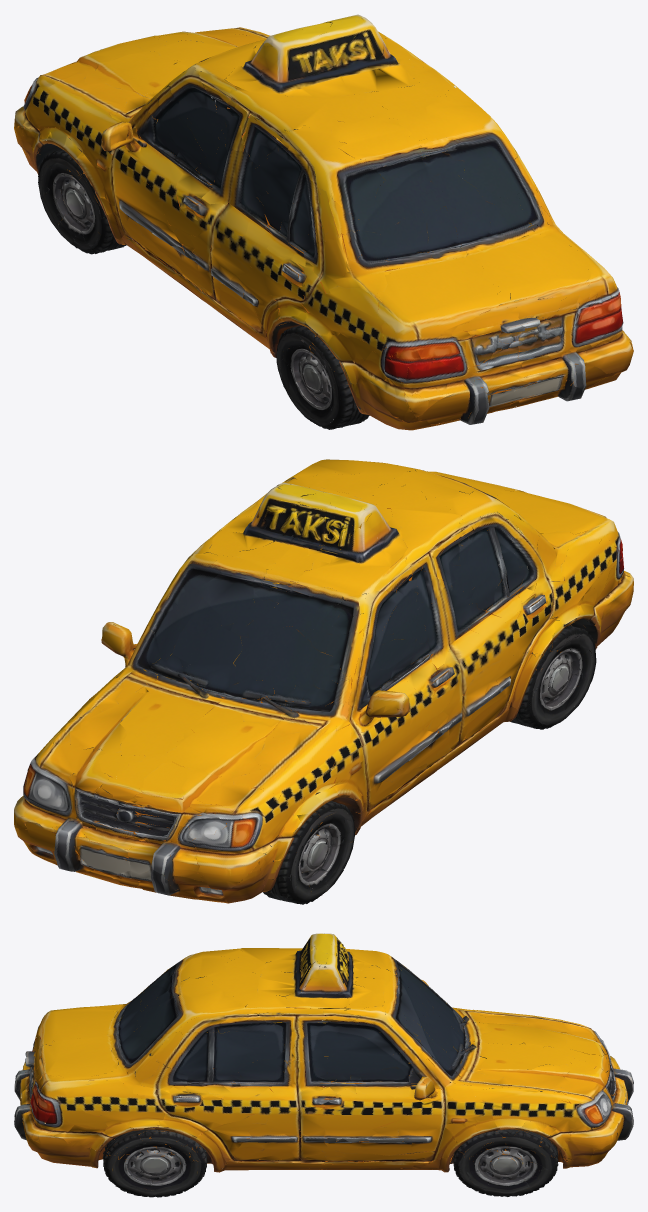
Rendered from Taxi.fbx.
The picture shows the model from 3 angles, top to bottom: view 1: azimuth 30°, elevation 25°; view 2: azimuth 150°, elevation 25°; view 3: azimuth 270°, elevation 25°; orthographic projection. The views are drawn at different scales.
Visible parts, largest first — view 1: Taxi; view 2: Taxi; view 3: Taxi.
Part boxes in pixels (bbox=[...]): Taxi: bbox=[14, 14, 633, 430]; Taxi: bbox=[14, 459, 633, 904]; Taxi: bbox=[14, 933, 633, 1197].
Size of the model in its own units: 1.84 by 1.62 by 4.43.
Materials: 1 (1 with a texture image).
